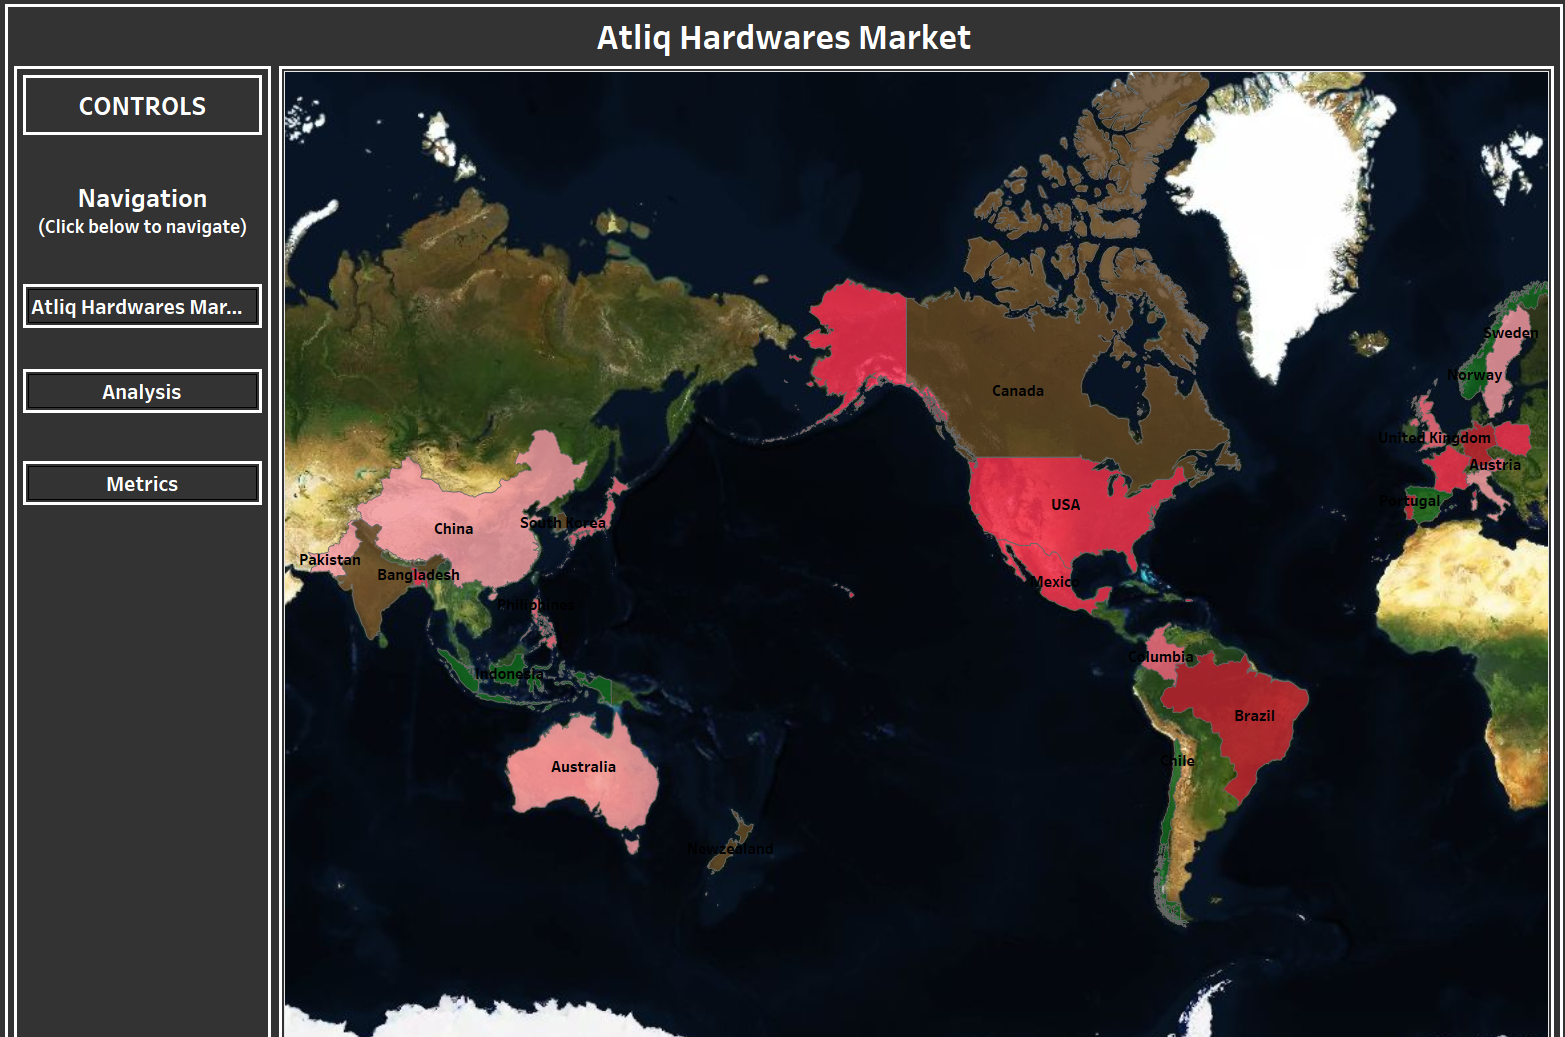

Layout of this report page (visuals, bound fields, positions):
{"tool":"tableau","page":{"name":"Altiq Hardwares Market","canvas":[1566,1268],"ordinal":0},"visuals":[{"type":"text","box":[10.1,9,1548,53]},{"type":"worksheet","title":"Whole Market","mark":"Multipolygon","box":[275.1,62,1283,1197]},{"type":"text","box":[19.2,71,247,68]},{"type":"blank","box":[19.2,139,247,37]},{"type":"text","box":[19.2,176,247,67]},{"type":"blank","box":[19.2,243,247,37]},{"type":"dashboard-object","box":[19.2,280,247,52]},{"type":"blank","box":[19.2,332,247,33]},{"type":"dashboard-object","box":[19.2,365,247,52]},{"type":"blank","box":[19.2,417,247,40]},{"type":"dashboard-object","box":[19.2,457,247,52]},{"type":"blank","box":[19.2,509,247,37]},{"type":"text","box":[22,1039,241,89]}]}

Visuals, with their boxes on the page's 1566x1268 design canvas (x1, y1, x2, y2). These are canvas units, not pixel positions in the 1565x1037 screenshot, which may show the page scaled, cropped or inside an application window:
text: [x1=10, y1=9, x2=1558, y2=62]
"Whole Market" worksheet (Multipolygon marks): [x1=275, y1=62, x2=1558, y2=1259]
text: [x1=19, y1=71, x2=266, y2=139]
blank: [x1=19, y1=139, x2=266, y2=176]
text: [x1=19, y1=176, x2=266, y2=243]
blank: [x1=19, y1=243, x2=266, y2=280]
dashboard-object: [x1=19, y1=280, x2=266, y2=332]
blank: [x1=19, y1=332, x2=266, y2=365]
dashboard-object: [x1=19, y1=365, x2=266, y2=417]
blank: [x1=19, y1=417, x2=266, y2=457]
dashboard-object: [x1=19, y1=457, x2=266, y2=509]
blank: [x1=19, y1=509, x2=266, y2=546]
text: [x1=22, y1=1039, x2=263, y2=1128]
